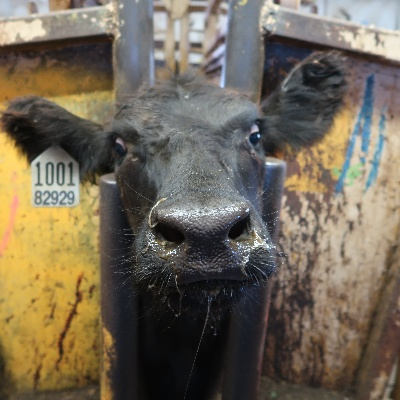fidget_spinner: (138, 200, 270, 288)
